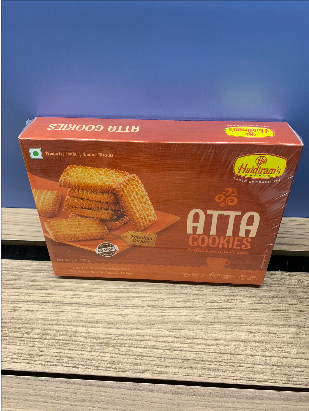Cookies_200-299g: (33, 140, 279, 269)
